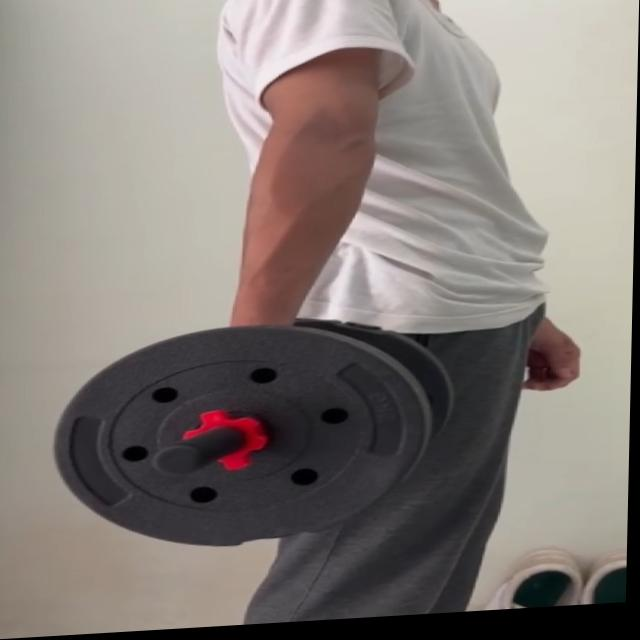dumbbell: (47, 307, 460, 549)
